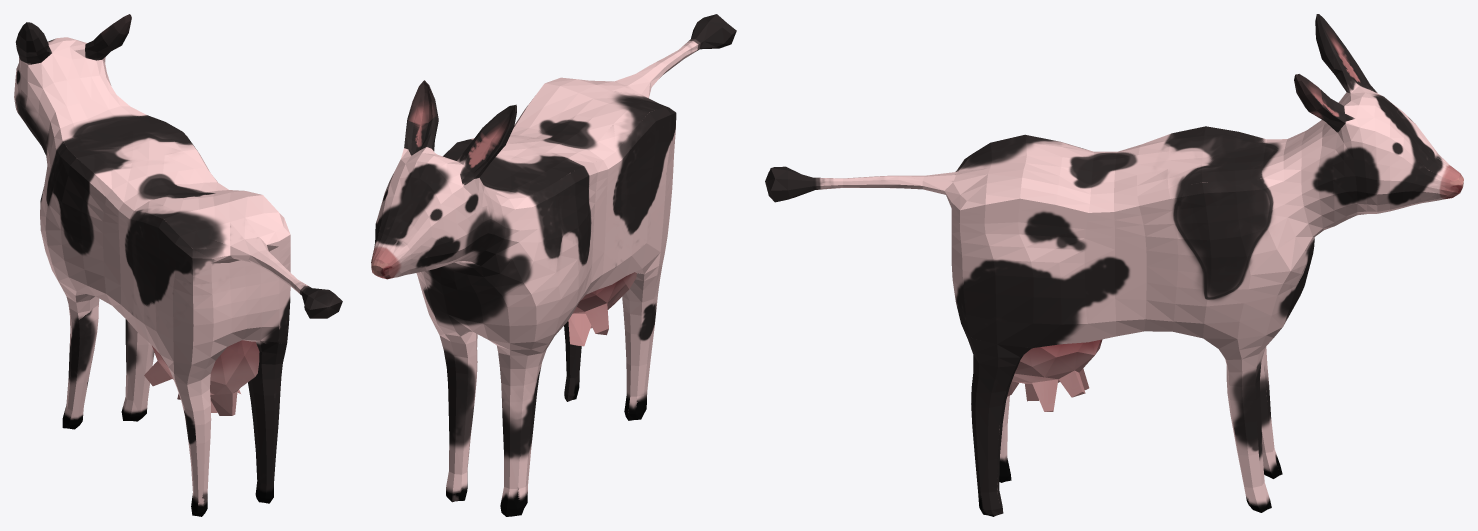
The model's file is cow02.obj.
3 views of the same model, side by side, from view 1: azimuth 30°, elevation 25°; view 2: azimuth 150°, elevation 25°; view 3: azimuth 270°, elevation 25° (orthographic). The views are drawn at different scales.
Visible parts, largest first — view 1: Cube, Sphere; view 2: Cube, Sphere; view 3: Cube, Sphere.
Boxes of the visible parts, x1,y1,x2,y2 form: Cube: [14, 14, 342, 516]; Sphere: [144, 340, 259, 415]; Cube: [371, 14, 736, 516]; Sphere: [568, 272, 636, 346]; Cube: [765, 14, 1463, 516]; Sphere: [1007, 339, 1102, 411].
Bounding box in the file's own units: 2.09 × 6.07 × 8.49.
